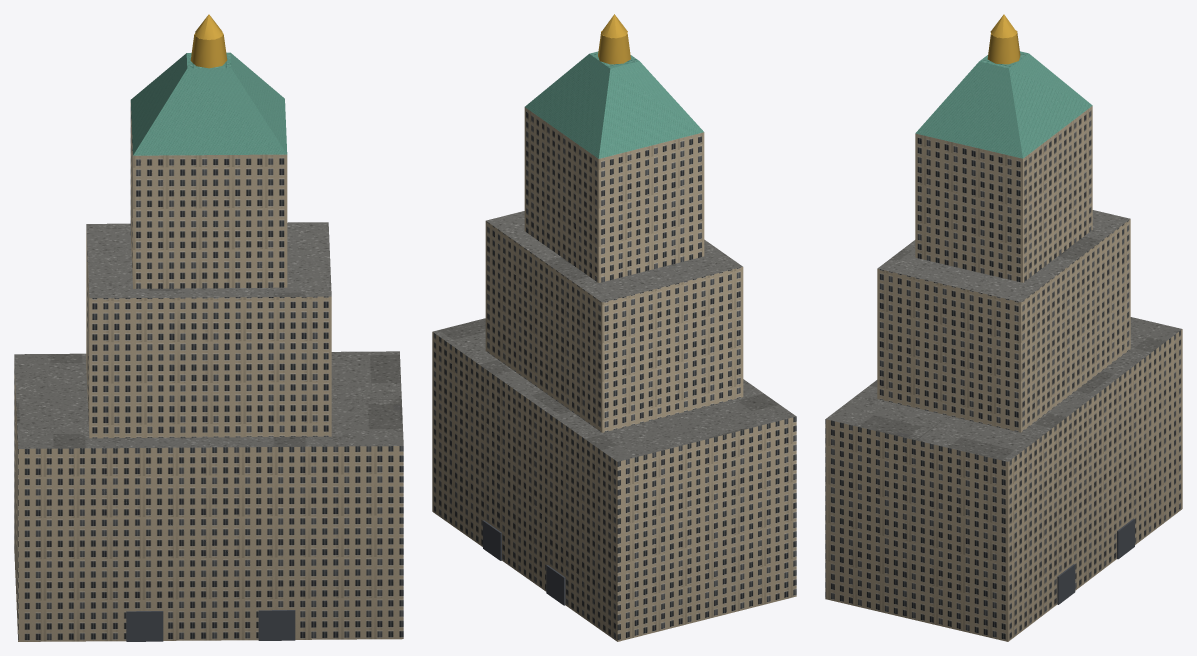
The model's file is helmsley.glb.
3 views of the same model, side by side, from view 1: azimuth 30°, elevation 25°; view 2: azimuth 150°, elevation 25°; view 3: azimuth 270°, elevation 25° (orthographic). The views are drawn at different scales.
Parts seen in each view (by area): view 1: helmsley; view 2: helmsley; view 3: helmsley.
Part boxes in pixels (x1,y1,x2,y2): helmsley: (14,14,403,641); helmsley: (432,14,796,641); helmsley: (825,14,1182,641).
Bounding box in the file's own units: 121 × 174 × 104.
12 materials, 8 textured.
